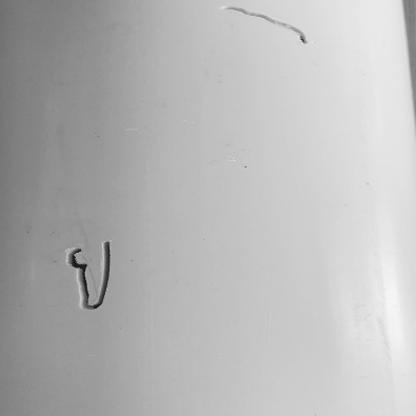fengxi: (221, 6, 309, 45), (66, 240, 113, 311)
